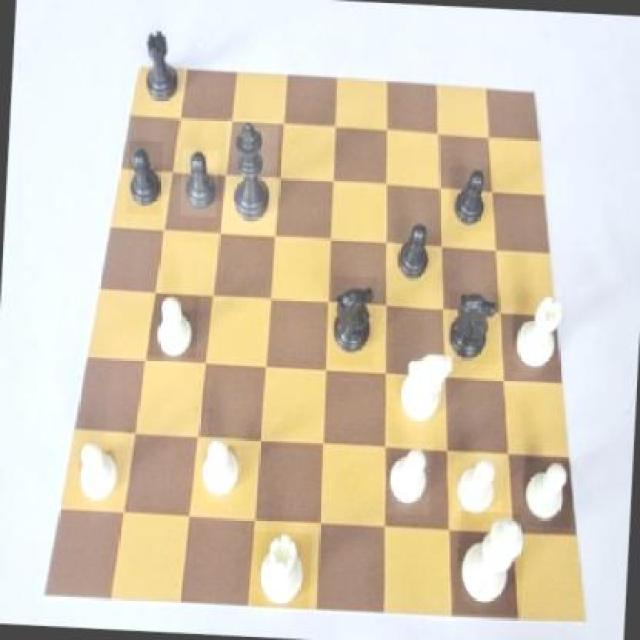black-bishop: (222, 119, 279, 236)
black-king: (329, 277, 378, 368), (449, 290, 503, 364)
black-knight: (448, 166, 497, 233), (126, 140, 163, 216), (394, 217, 434, 284), (180, 150, 219, 218)
black-queen: (140, 29, 183, 106)
white-bishop: (456, 512, 526, 617)
white-king: (395, 341, 453, 434)
white-knight: (521, 458, 574, 528), (384, 443, 434, 516), (452, 454, 505, 521), (149, 294, 200, 360), (198, 434, 246, 504), (76, 438, 124, 506)
white-queen: (251, 531, 314, 611), (511, 294, 567, 374)
